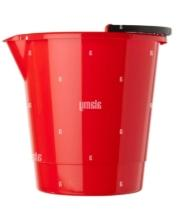SEAU: (0, 3, 177, 212)
